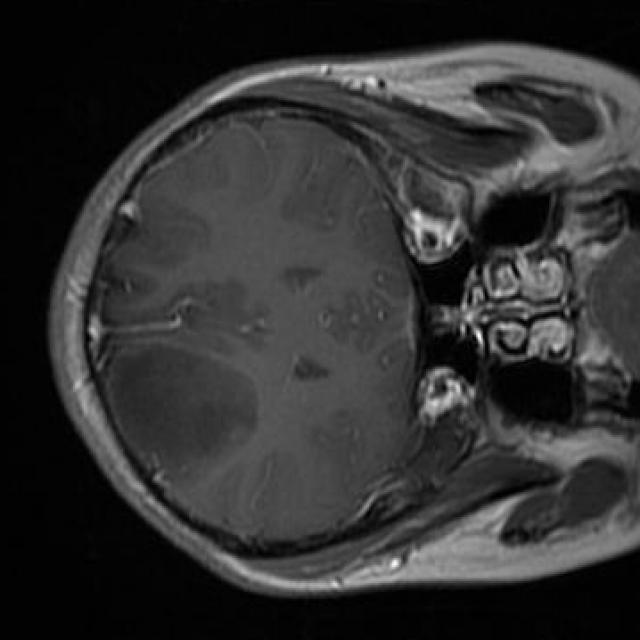glioma: (107, 346, 258, 480)
